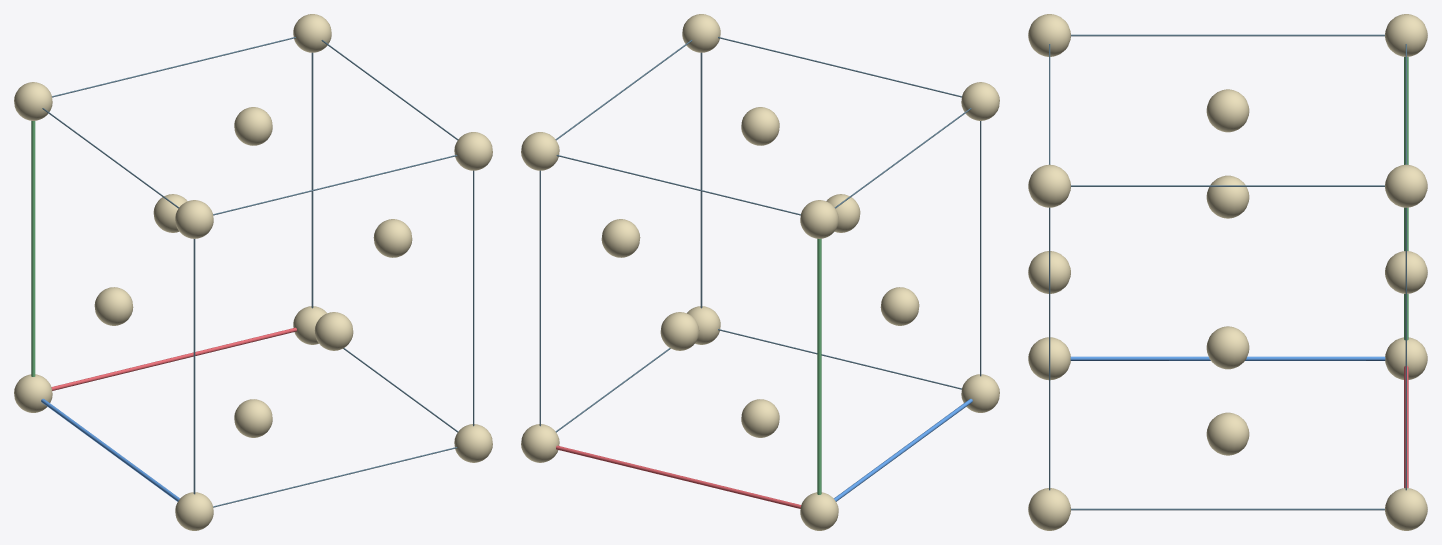
The model's file is nguyen-to-ac.glb.
The picture shows the model from 3 angles, left to right: view 1: azimuth 30°, elevation 25°; view 2: azimuth 150°, elevation 25°; view 3: azimuth 270°, elevation 25°; orthographic projection. The views are drawn at different scales.
Parts seen in each view (by area): view 1: Ac · Ac · 1 (×14), Ô mạng và các trục a, b, c; view 2: Ac · Ac · 1 (×14), Ô mạng và các trục a, b, c; view 3: Ac · Ac · 1 (×14), Ô mạng và các trục a, b, c.
Boxes of the visible parts, x1,y1,x2,y2 form: Ac · Ac · 1 (×14): [14, 14, 492, 530]; Ô mạng và các trục a, b, c: [31, 37, 474, 507]; Ac · Ac · 1 (×14): [521, 14, 999, 530]; Ô mạng và các trục a, b, c: [539, 37, 981, 508]; Ac · Ac · 1 (×14): [1028, 14, 1427, 530]; Ô mạng và các trục a, b, c: [1049, 34, 1408, 510].
Size of the model in its own units: 5.95 by 5.95 by 5.95.
